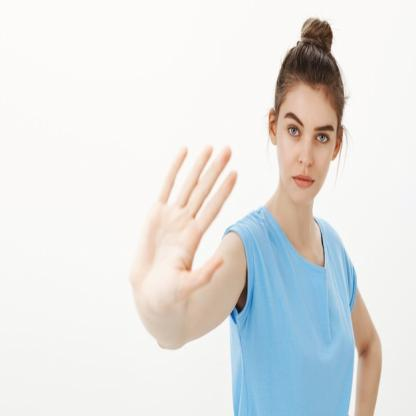stop: (126, 126, 240, 315)
